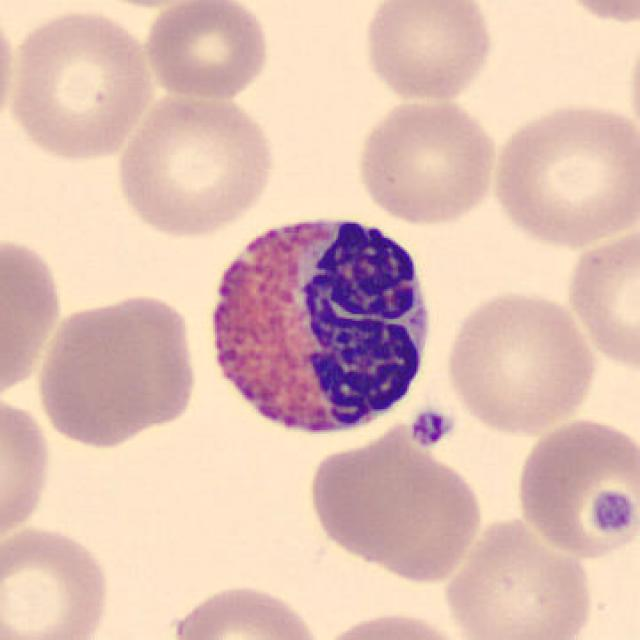Eosinophil: (196, 198, 444, 453)
Platelets: (588, 488, 636, 538), (407, 405, 455, 448)
RBC: (314, 426, 477, 586), (112, 84, 279, 240), (34, 292, 195, 450), (439, 284, 601, 437), (5, 5, 158, 164), (487, 97, 637, 250), (439, 513, 597, 640), (352, 94, 501, 228), (510, 412, 638, 562), (359, 0, 498, 104), (0, 520, 116, 640), (140, 0, 273, 102), (0, 229, 66, 402), (562, 222, 638, 372), (167, 580, 325, 640), (0, 390, 55, 548), (313, 608, 471, 640), (0, 3, 20, 138), (547, 0, 640, 28)
